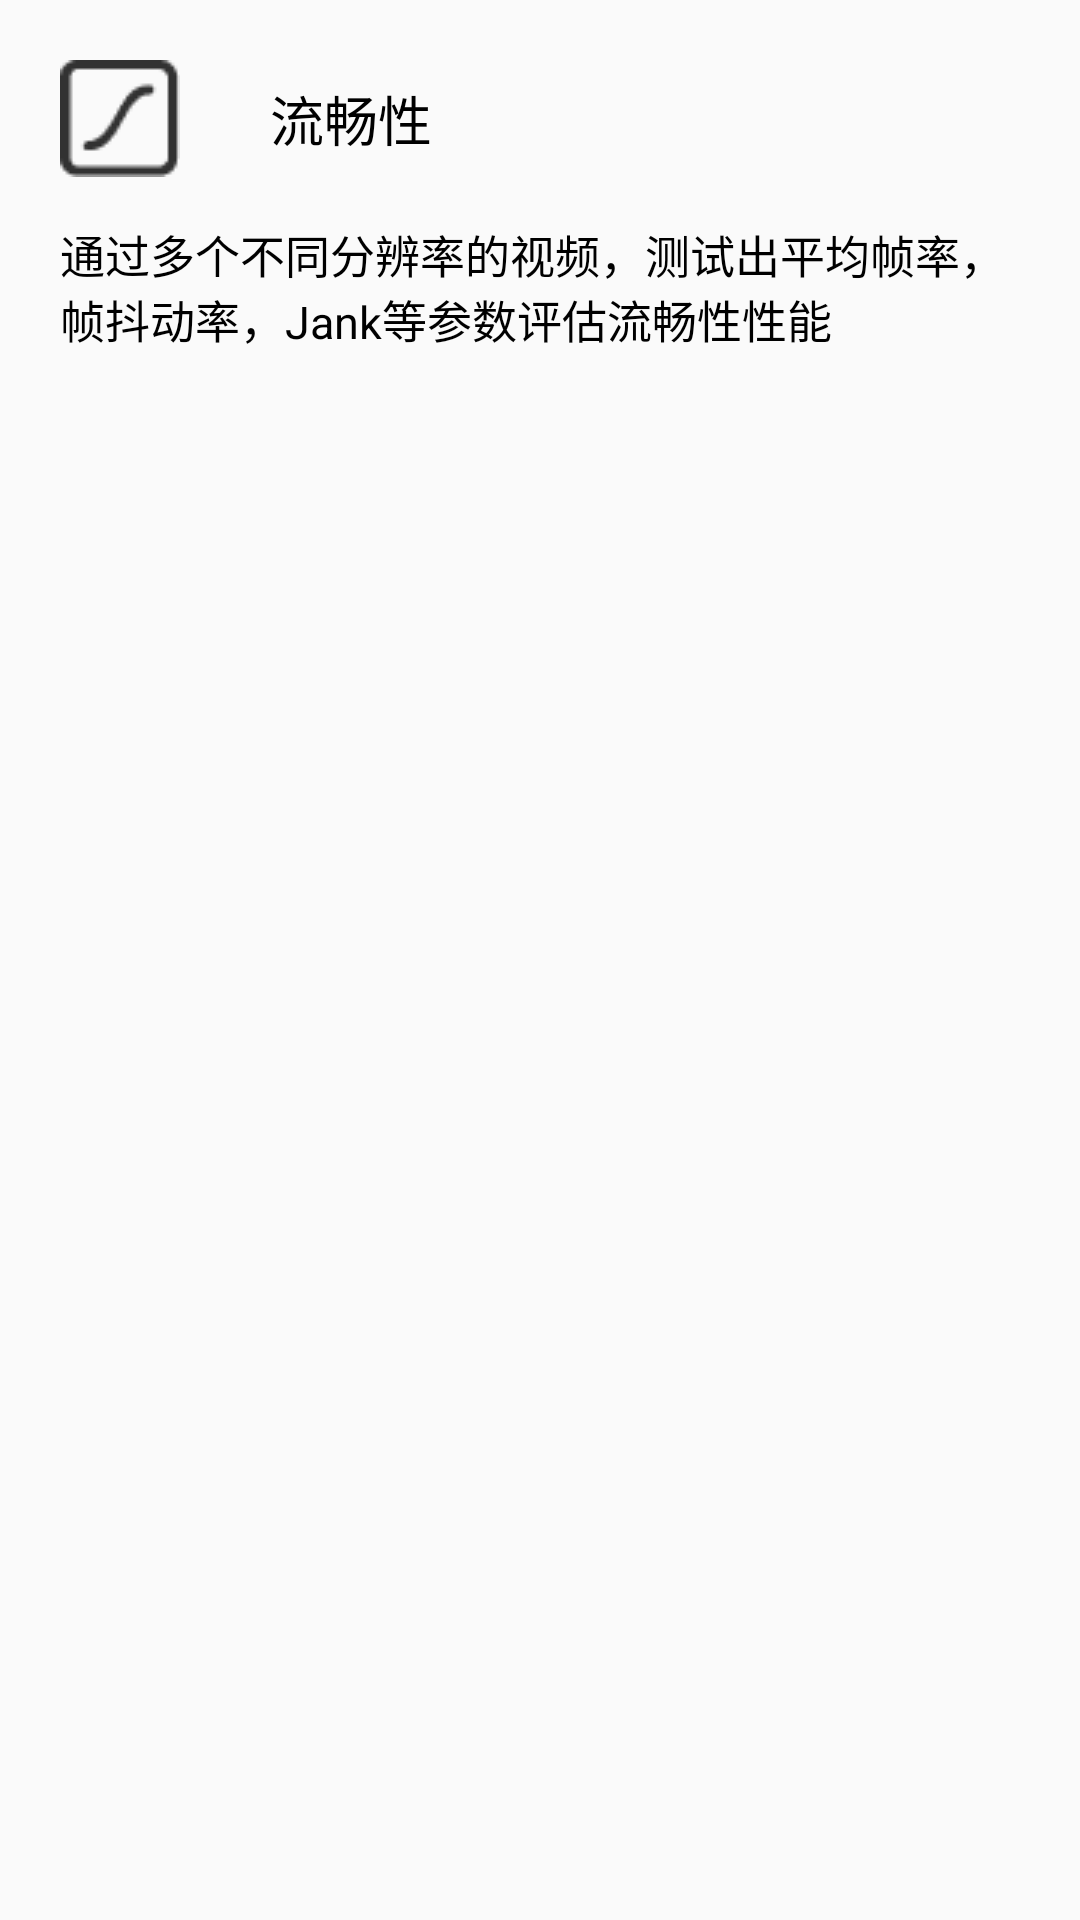

Locate icon controls on the screen. Image size 1080px×1920px, boxes as [left=x1, top=y1, right=x2, bottom=y2].
liuchang: [left=60, top=60, right=180, bottom=177]
